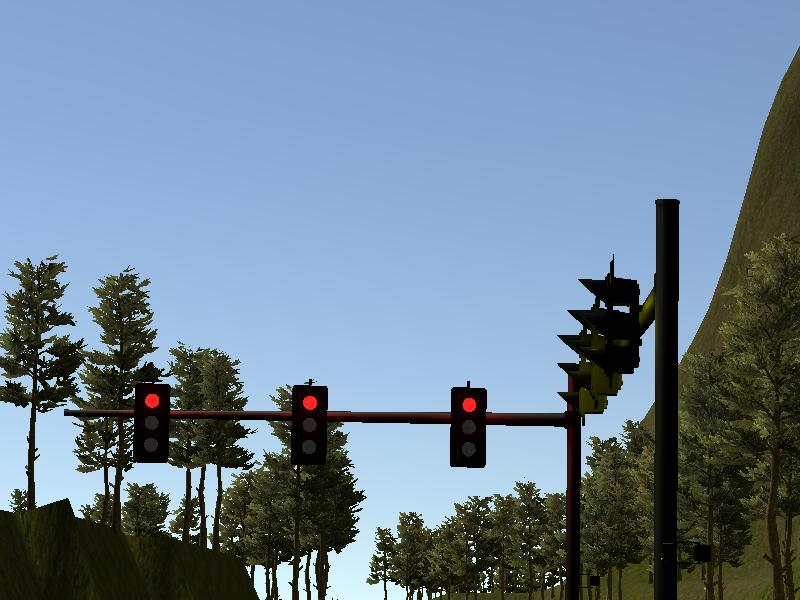Red: (451, 387, 486, 467), (292, 386, 326, 464), (135, 386, 169, 462)
